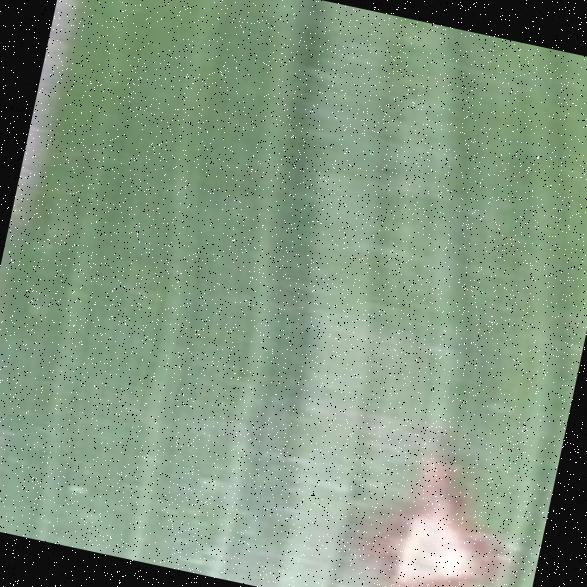Leaf_smut: (342, 406, 529, 587)
